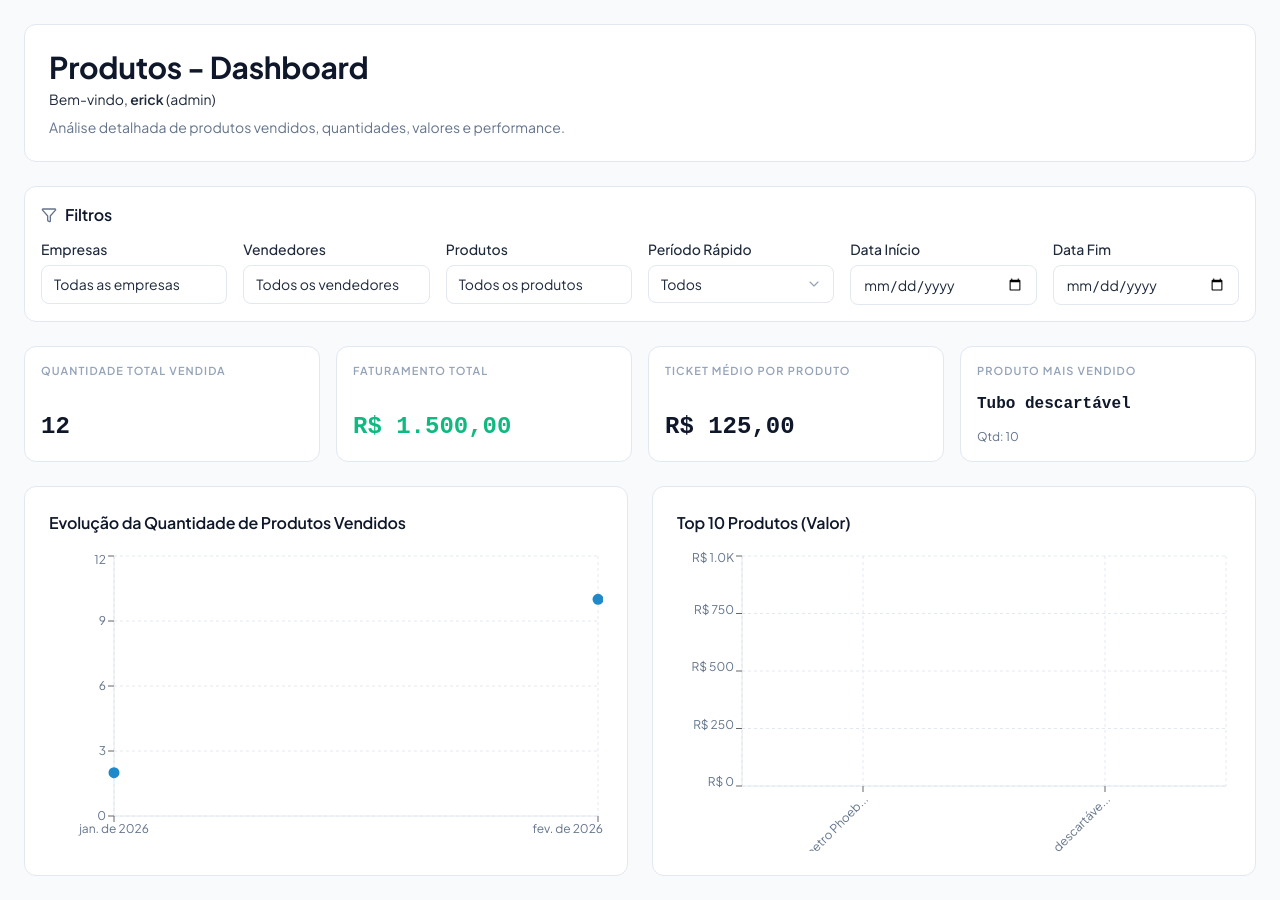
Test: MultiSelect em Produtos › sem resultado, diz que não achou
The width and height of the screenshot is (1280, 900).
Click the button "Empresas Todas as empresas" at point(134, 284), box [41,265,227,304]
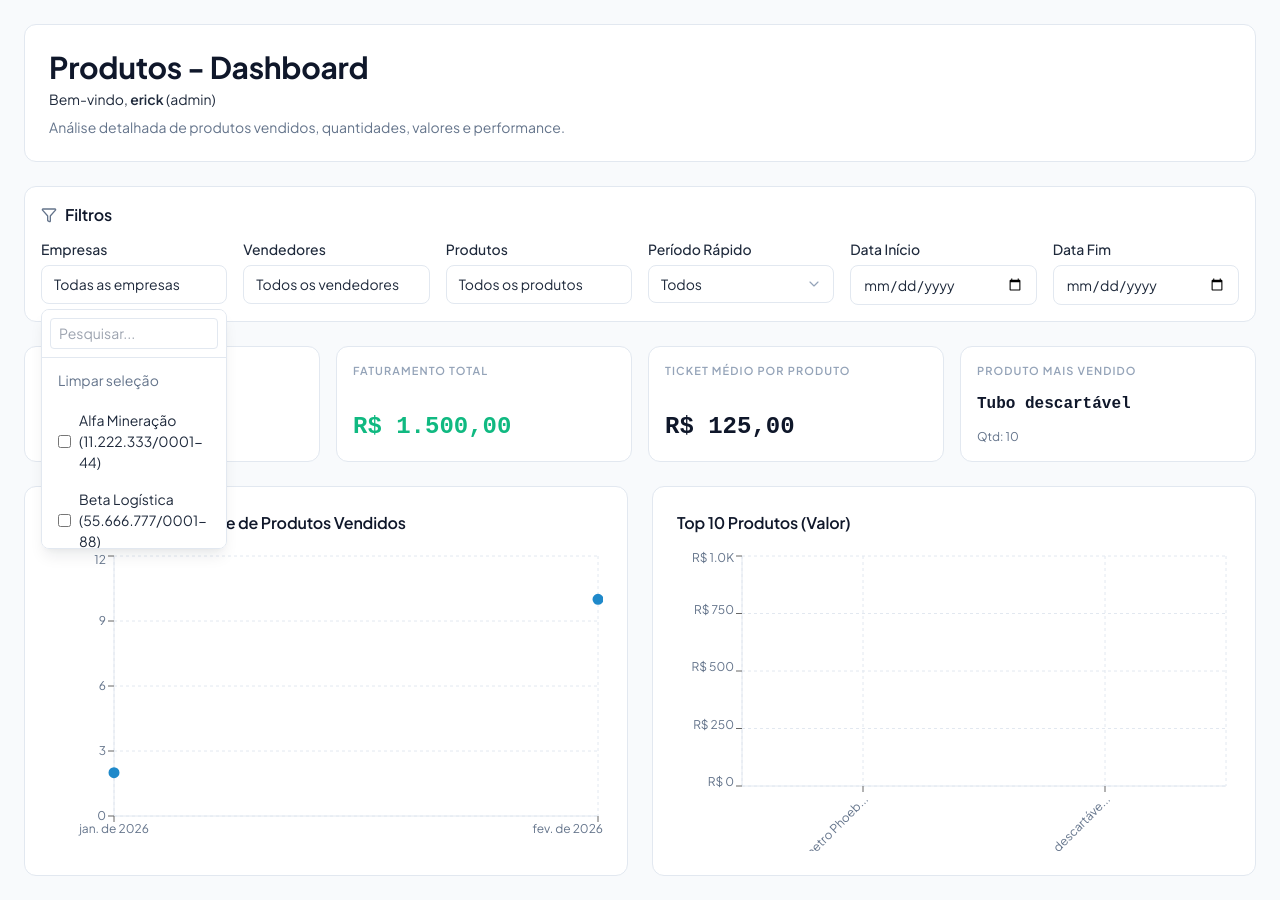
Type "gama" into the field with placeholder "Pesquisar..." at point(134, 334), box [50,318,218,349]
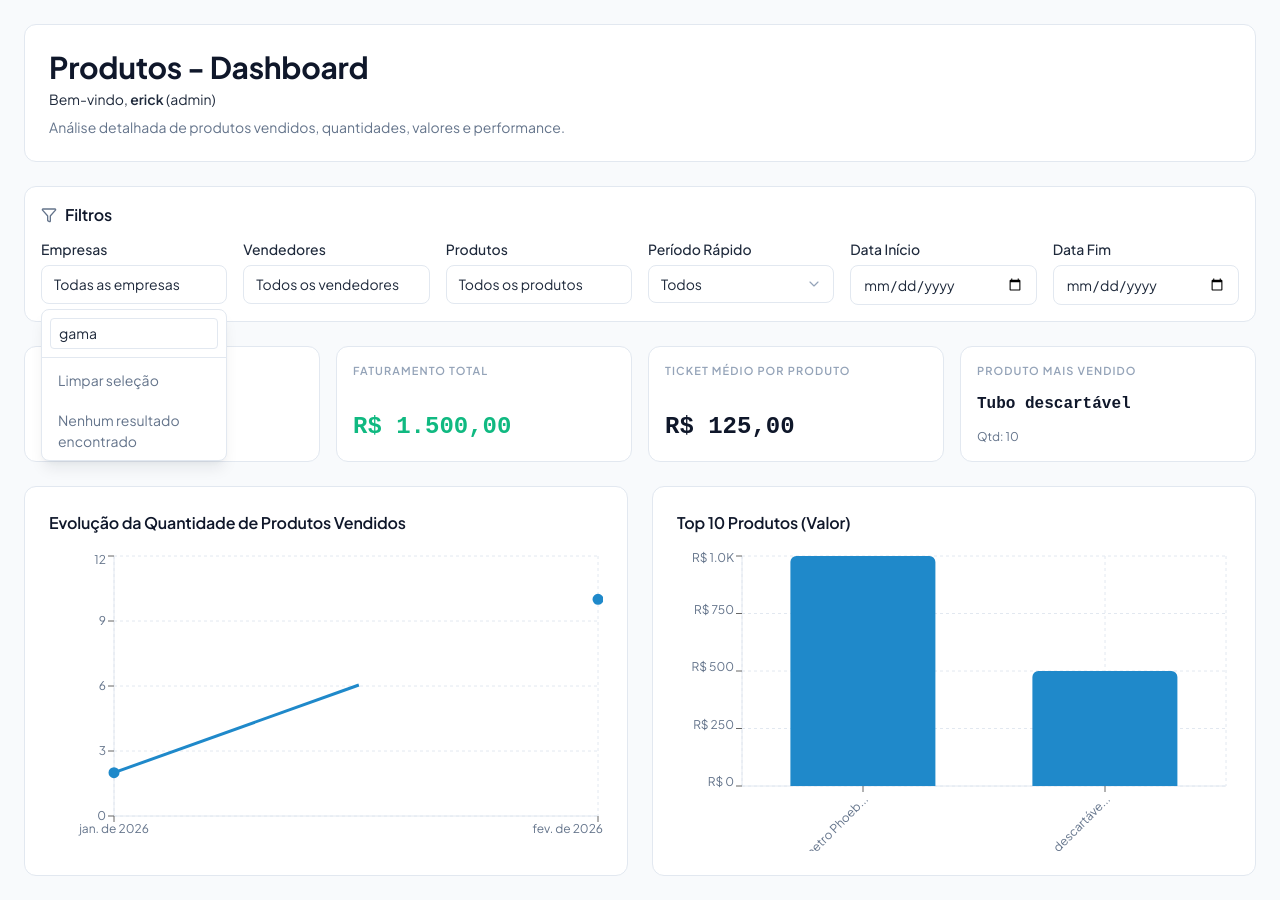
Expected: the text "Nenhum resultado encontrado" is shown, [58,411,180,450]
